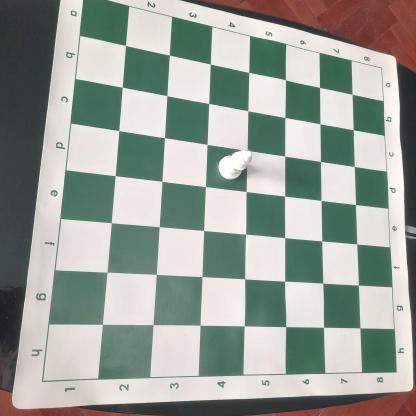white-bishop: (217, 149, 252, 181)
